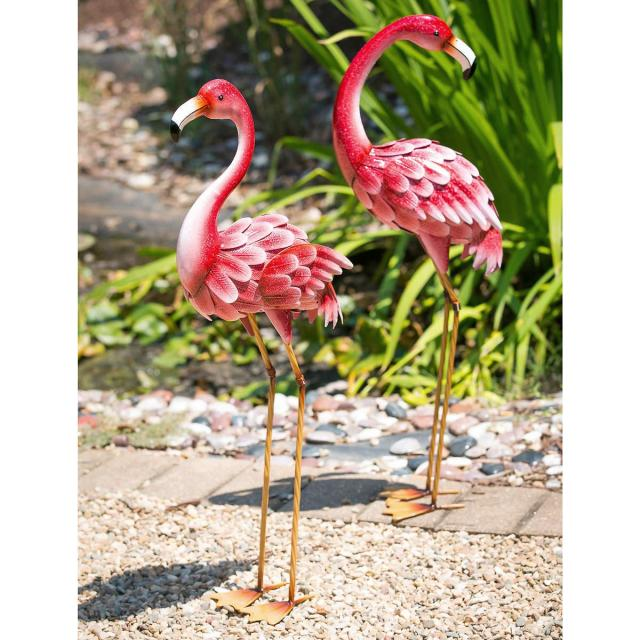flamingo: (171, 79, 351, 625), (333, 14, 502, 522)
